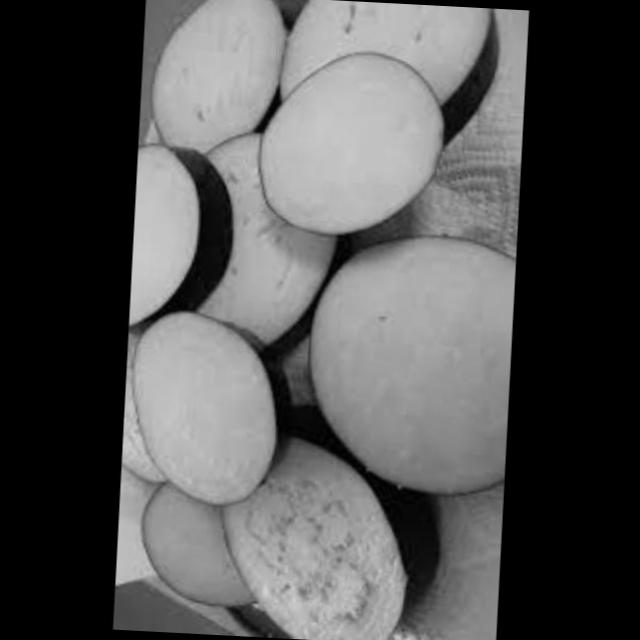ca tim: (300, 222, 510, 509), (206, 415, 429, 640), (174, 117, 360, 365), (120, 312, 296, 520), (248, 46, 440, 236), (270, 0, 497, 153), (125, 134, 240, 356), (135, 0, 289, 165), (128, 476, 262, 620)
